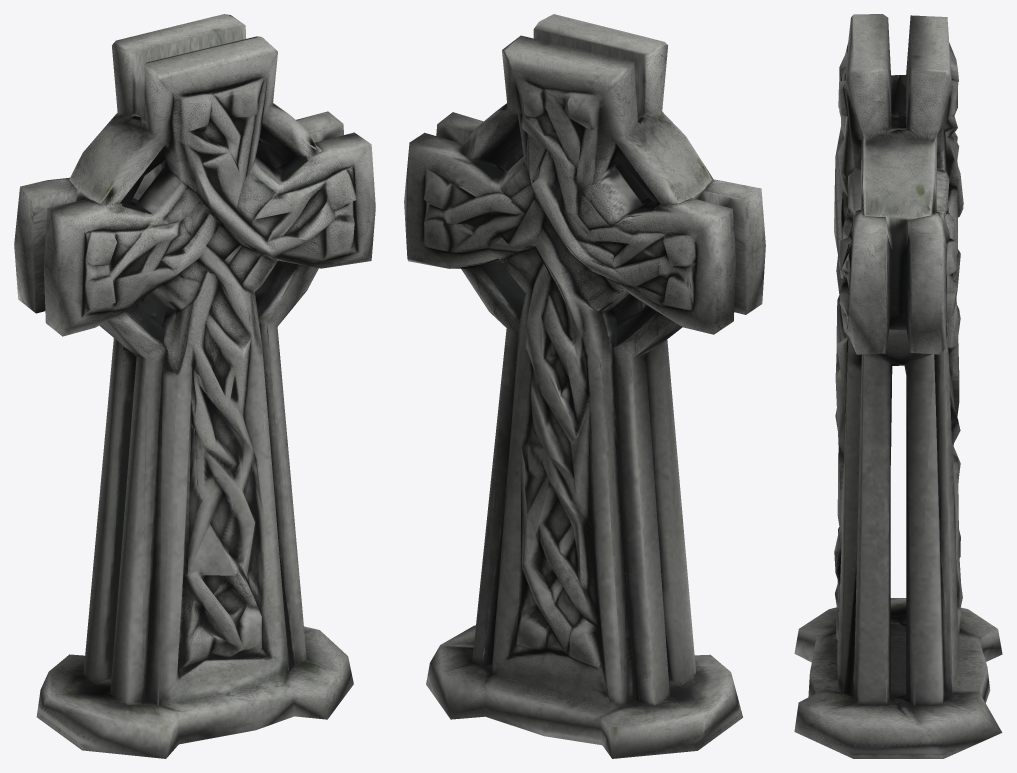
The model's file is celtic_cross.glb.
The picture shows the model from 3 angles, left to right: view 1: azimuth 30°, elevation 25°; view 2: azimuth 150°, elevation 25°; view 3: azimuth 270°, elevation 25°; orthographic projection.
Size of the model in its own units: 0.9585 by 1.9 by 0.5484.
Materials: 1 (1 with a texture image).
